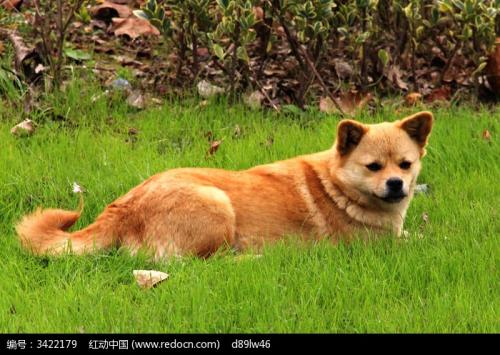dog: (315, 106, 450, 222)
